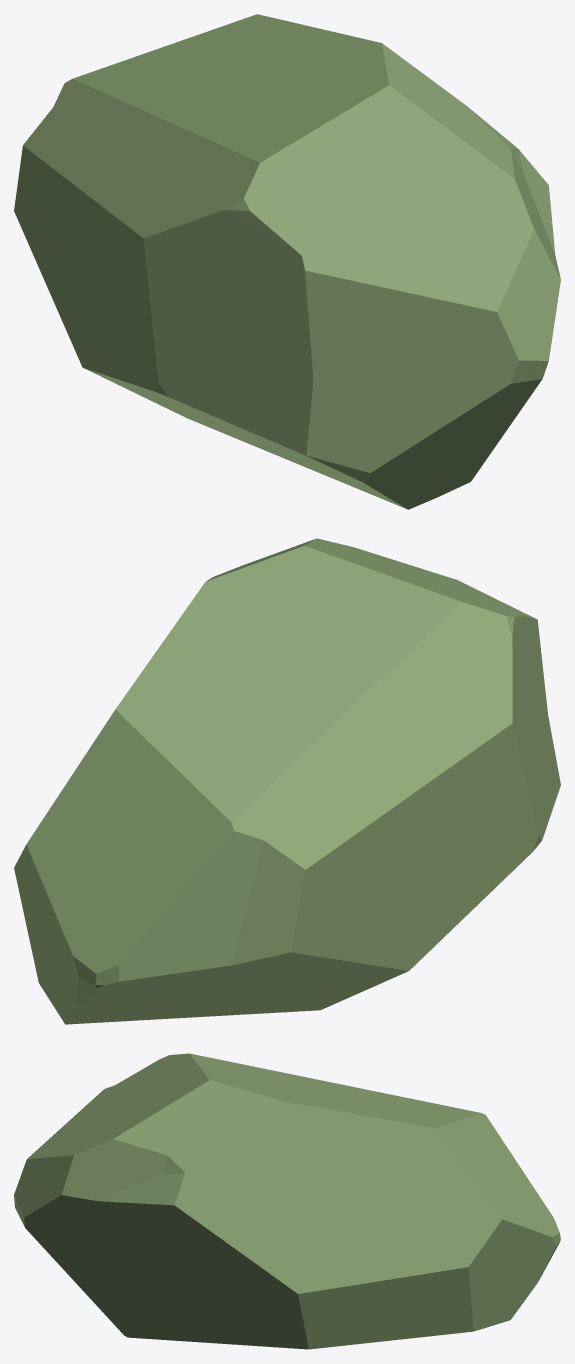
3 renders of one model, top to bottom at view 1: azimuth 30°, elevation 25°; view 2: azimuth 150°, elevation 25°; view 3: azimuth 270°, elevation 25°, orthographic. The views are drawn at different scales.
Parts seen in each view (by area): view 1: Cube.001; view 2: Cube.001; view 3: Cube.001.
Boxes of the visible parts, x1,y1,x2,y2 form: Cube.001: (14, 14, 560, 509); Cube.001: (14, 538, 560, 1024); Cube.001: (14, 1053, 560, 1349).
Bounding box in the file's own units: 1.66 × 1.5 × 2.85.
